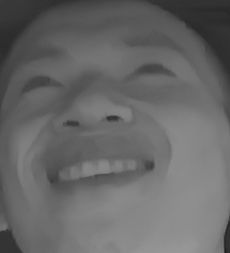eye: (126, 55, 179, 85), (18, 70, 65, 95)
mouth: (40, 143, 159, 199)
